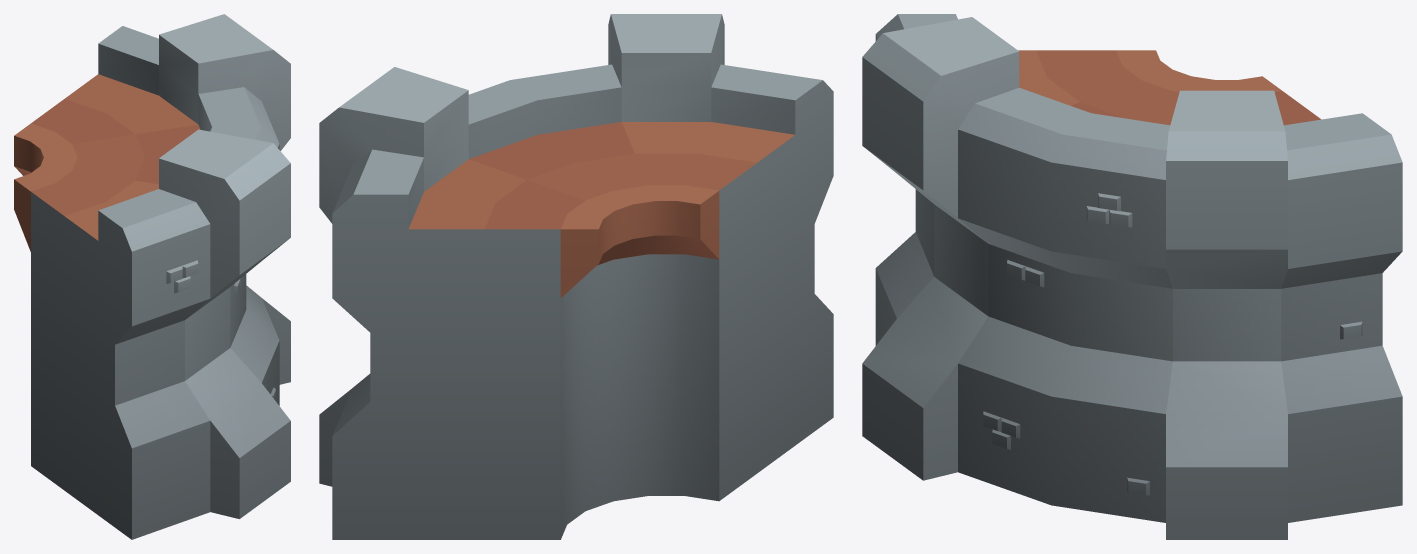
File: wall_corner_B_outside.glb
3 views of the same model, side by side, from view 1: azimuth 30°, elevation 25°; view 2: azimuth 150°, elevation 25°; view 3: azimuth 270°, elevation 25° (orthographic). The views are drawn at different scales.
Parts seen in each view (by area): view 1: wall_corner_B_outside; view 2: wall_corner_B_outside; view 3: wall_corner_B_outside.
Boxes of the visible parts, x1,y1,x2,y2 form: wall_corner_B_outside: (14,14,290,539); wall_corner_B_outside: (319,14,833,539); wall_corner_B_outside: (862,14,1402,539).
Bounding box in the file's own units: 0.964 × 1.1 × 1.35.
Materials: 1 (1 with a texture image).
